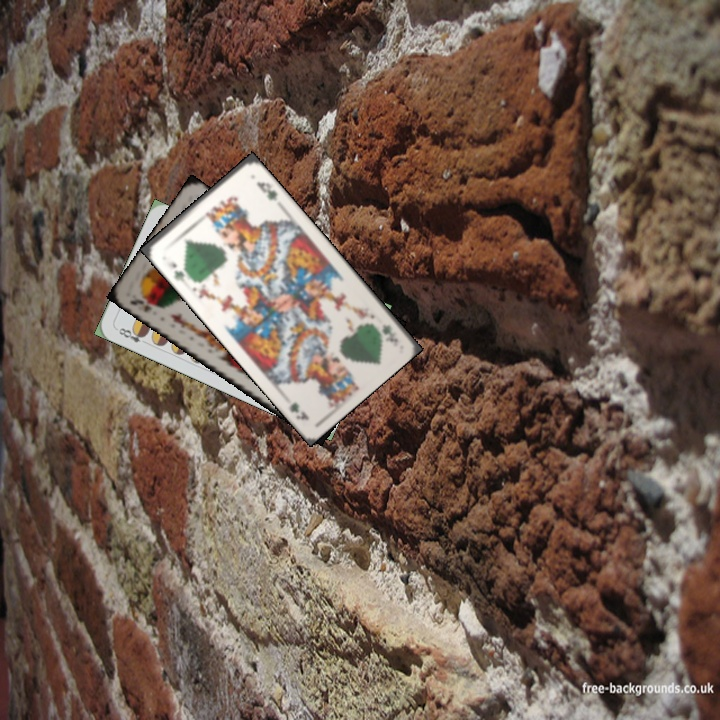E8: (112, 324, 150, 347)
GK: (163, 257, 193, 285), (378, 320, 400, 345)
SK: (126, 292, 161, 315)
